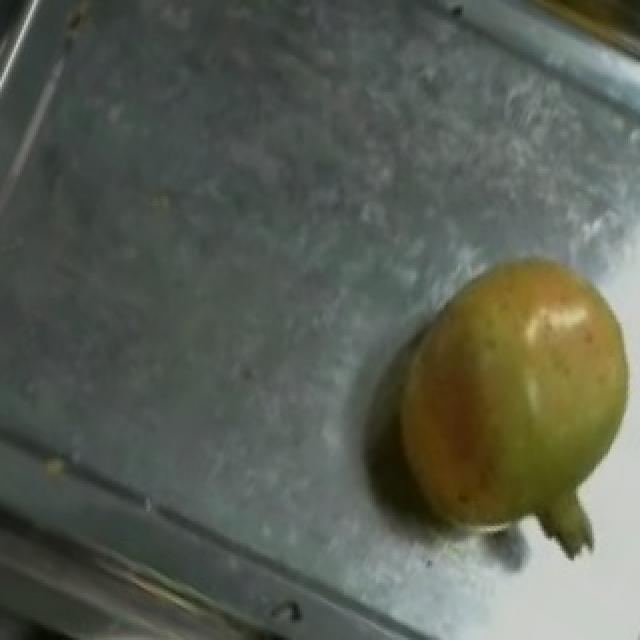fruit: (392, 223, 640, 449)
